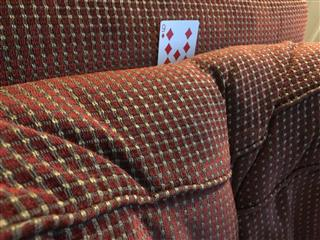NineOfDiamonds: (156, 18, 199, 65)
